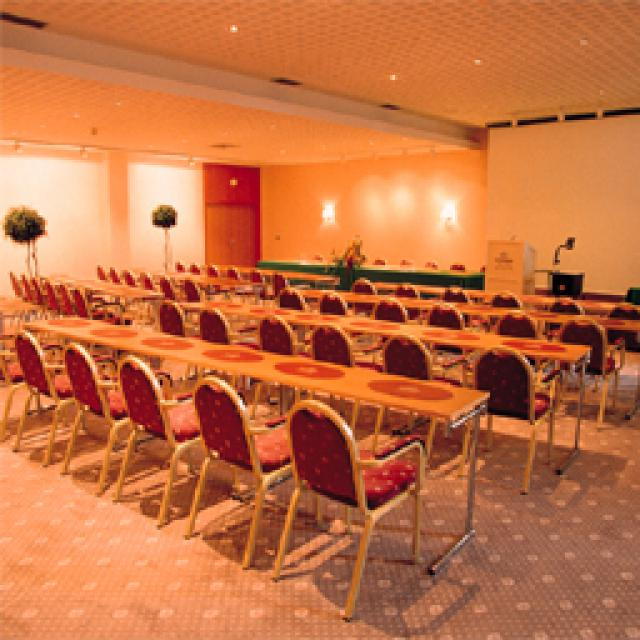airco: (265, 72, 292, 82)
bouquet: (325, 232, 365, 280)
chair: (378, 328, 430, 375), (305, 320, 355, 362), (255, 312, 295, 352), (192, 305, 228, 342), (422, 298, 460, 328), (492, 308, 535, 332), (155, 298, 182, 335), (368, 295, 405, 320), (312, 288, 348, 312), (275, 282, 302, 305)
chair -occluded-: (268, 392, 425, 618), (180, 372, 290, 562), (108, 355, 200, 518), (458, 340, 555, 490), (55, 340, 122, 488), (8, 330, 75, 465), (558, 315, 625, 428)
door bars: (200, 202, 260, 262)
lamp crop: (315, 190, 338, 225), (438, 198, 458, 228)
overhead projector: (530, 232, 582, 292)
place mat: (370, 375, 445, 398), (275, 358, 340, 378), (202, 345, 258, 360), (140, 332, 188, 348), (88, 325, 132, 338)
plant -x: (0, 205, 40, 275), (148, 202, 175, 268)
podium: (480, 232, 538, 290)
row of chairs: (348, 275, 635, 315), (5, 270, 120, 318), (98, 260, 198, 298), (175, 258, 288, 288)
table -X: (18, 310, 485, 422), (160, 295, 590, 365), (255, 255, 482, 285), (40, 270, 162, 300), (128, 268, 262, 288)
